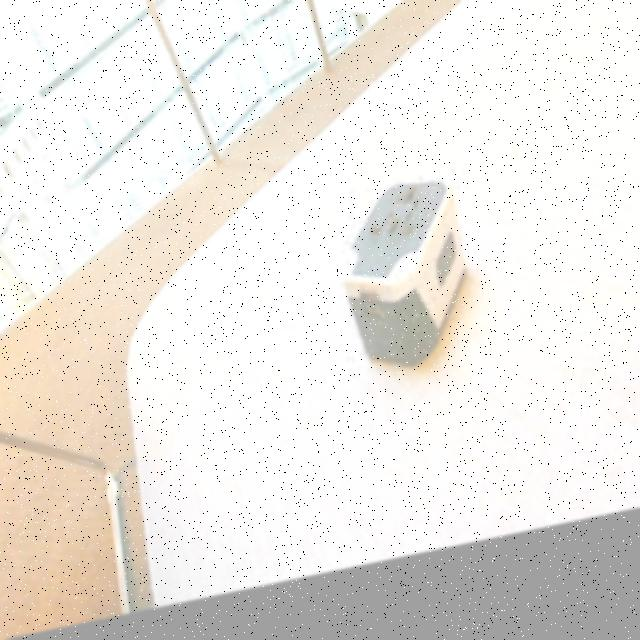adapter: (342, 185, 468, 396)
